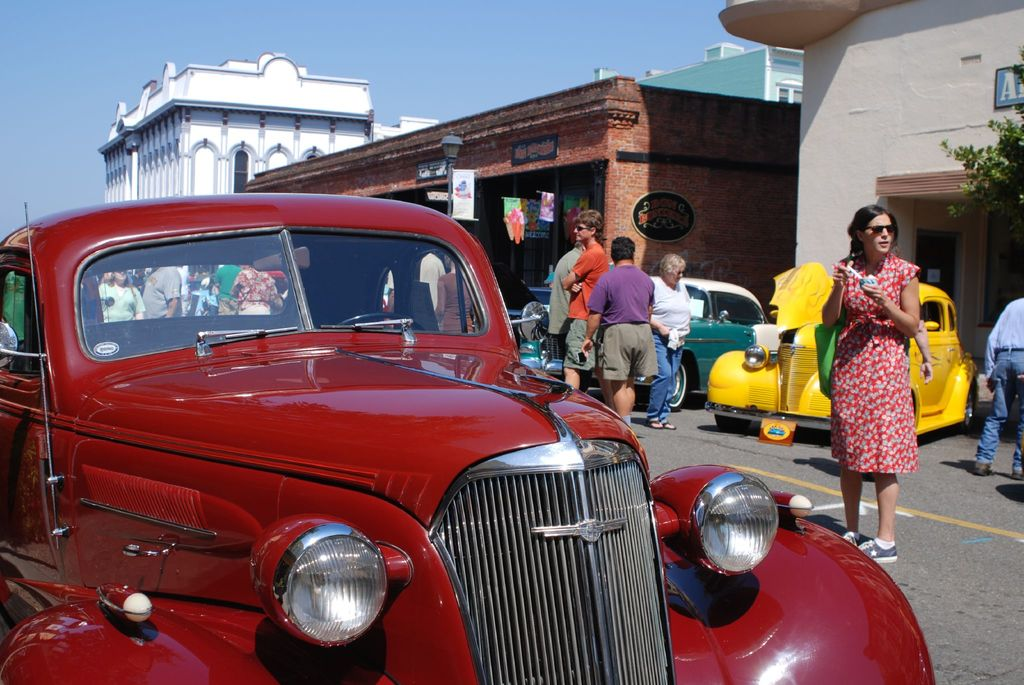Car: (0, 191, 941, 684), (705, 262, 987, 442), (522, 278, 771, 407)
